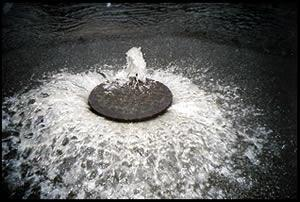drainage_overflow: (5, 53, 251, 189)
